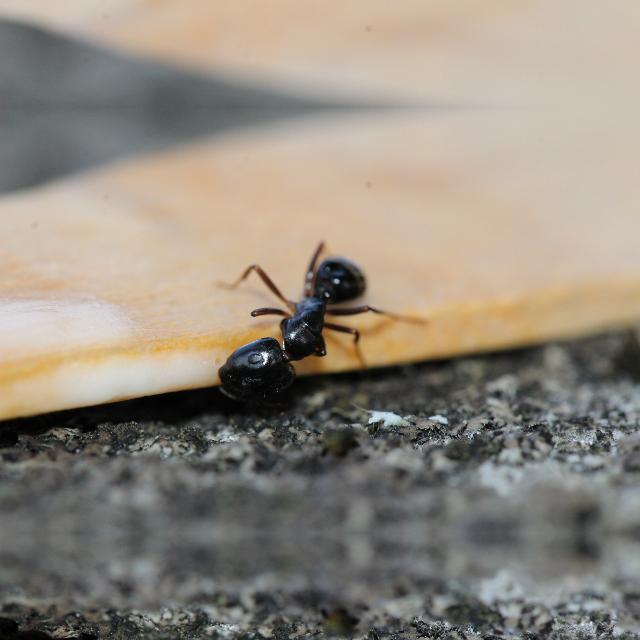Camponotus: (192, 236, 402, 408)
